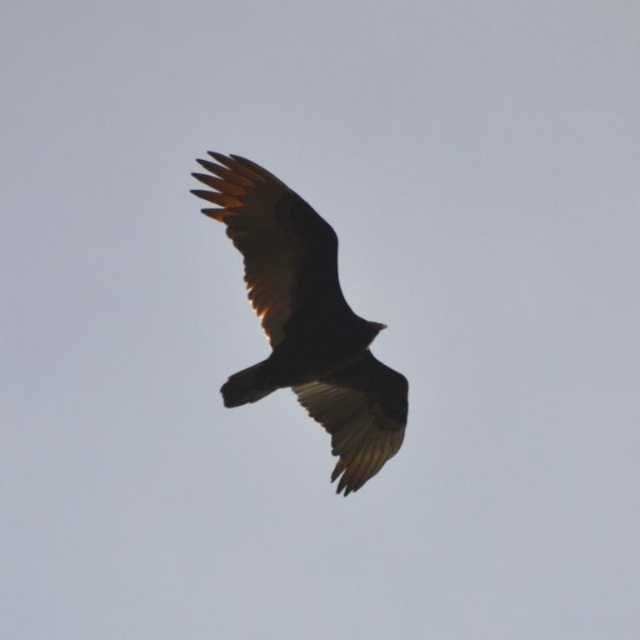Eagle: (187, 145, 408, 497)
